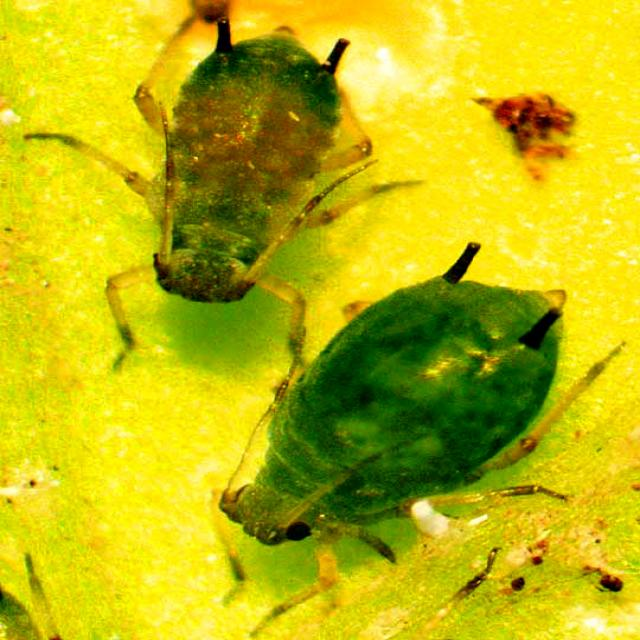Aphid-Grown-: (186, 258, 610, 568), (87, 12, 423, 332)
